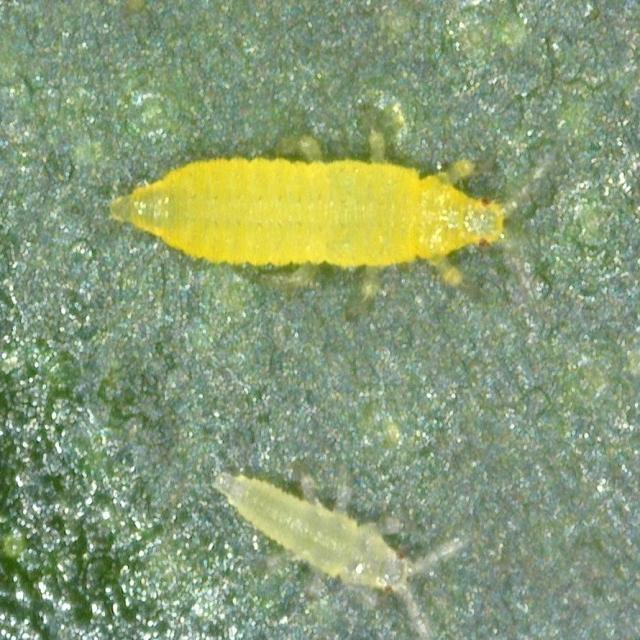Thrip-Larva-: (60, 119, 548, 289), (201, 445, 448, 594)
